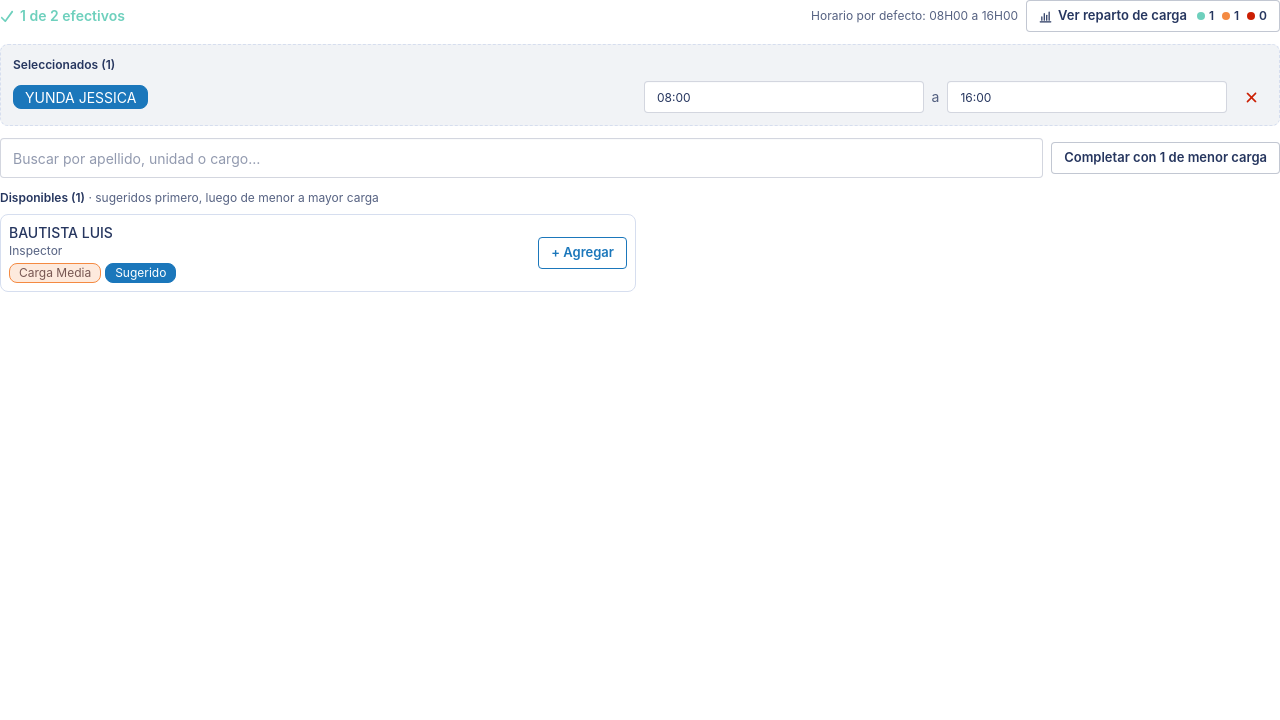
Test case: SelectorPersonal · lista compacta (P-02) › P-01: el botón «Ver reparto de carga» abre el drawer del reparto y lo anuncia (aria-expanded)
The width and height of the screenshot is (1280, 720).
Click the button "Ver reparto de carga 1 1 0". click: (1153,16)
box: [1026, 0, 1279, 32]
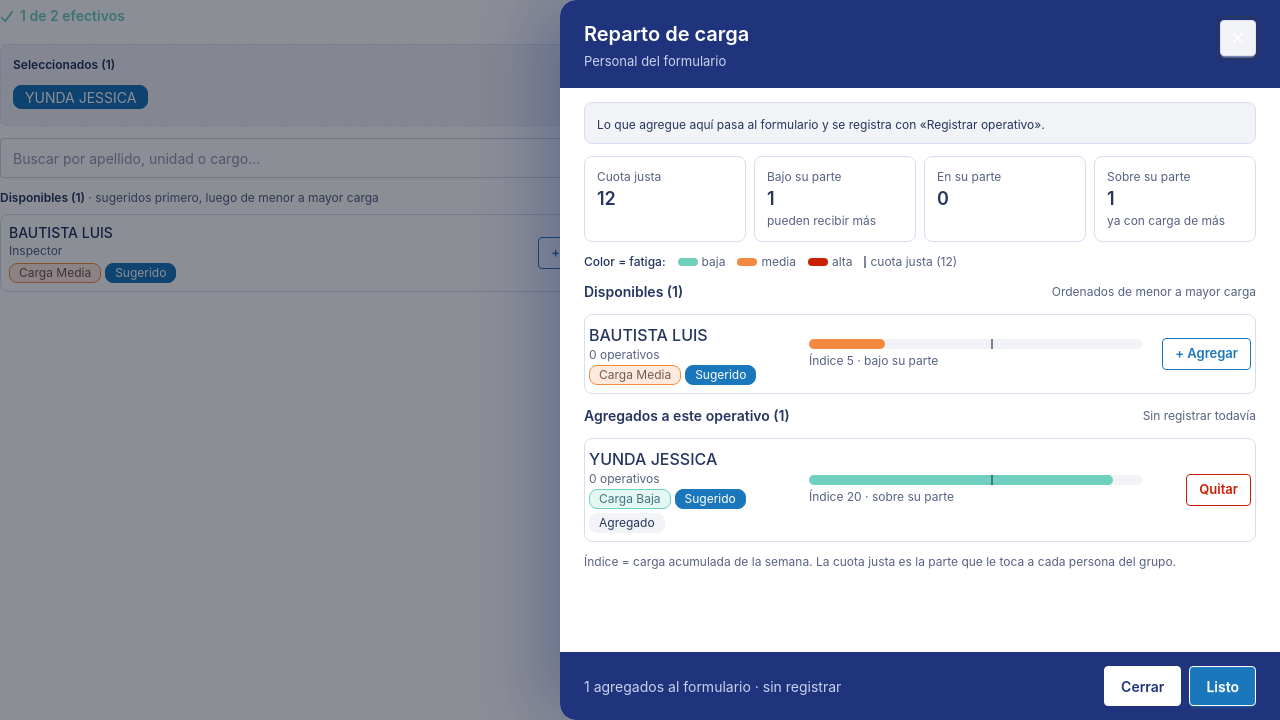
Expected: the dialog is shown, [560, 0, 1279, 719]
Expected: the text "Cuota justa" is shown, [597, 168, 661, 184]
Expected: the button "Ver reparto de carga 1 1 0" is expanded, [1026, 0, 1279, 32]
